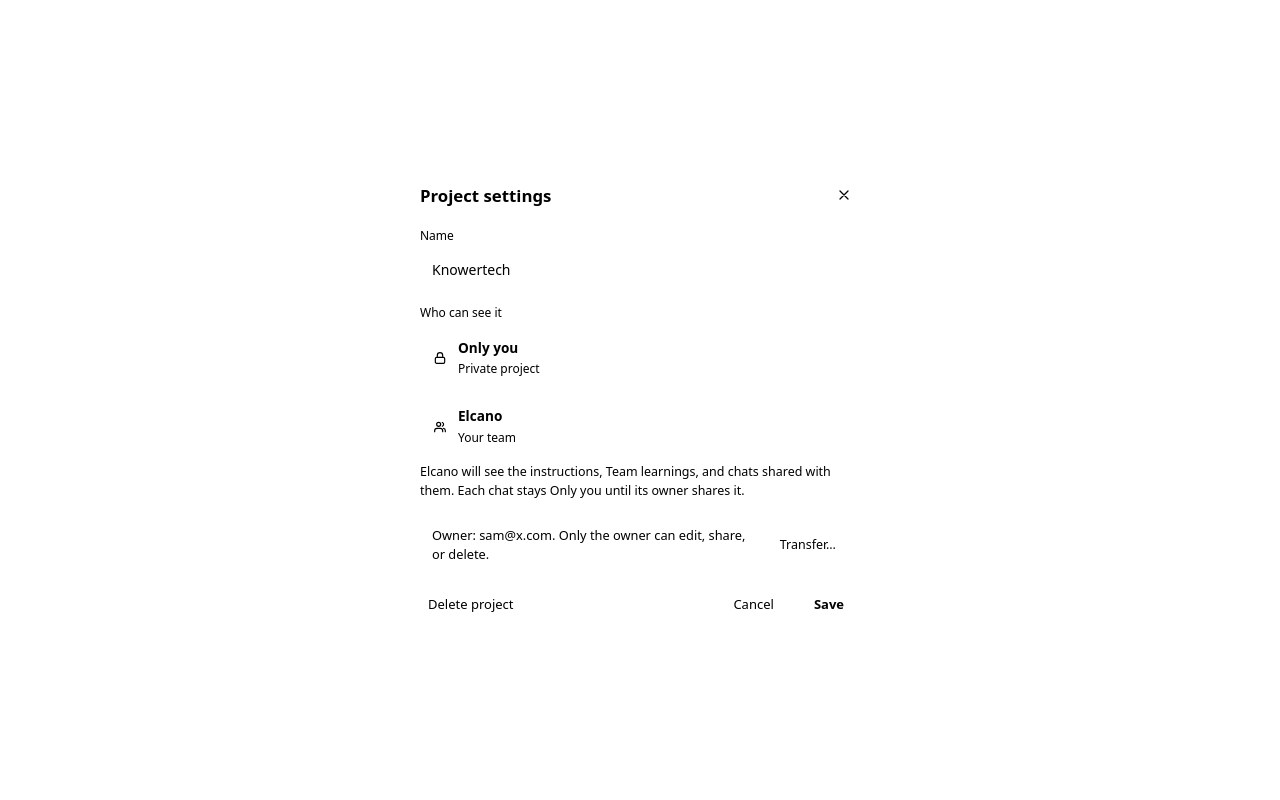
Test: ProjectSettingsDialog › B28: Save waits for the counts before it can unshare
The width and height of the screenshot is (1280, 800).
Click the radio button labelled "Only you Private project".
click(488, 348)  # box [420,328,860,388]
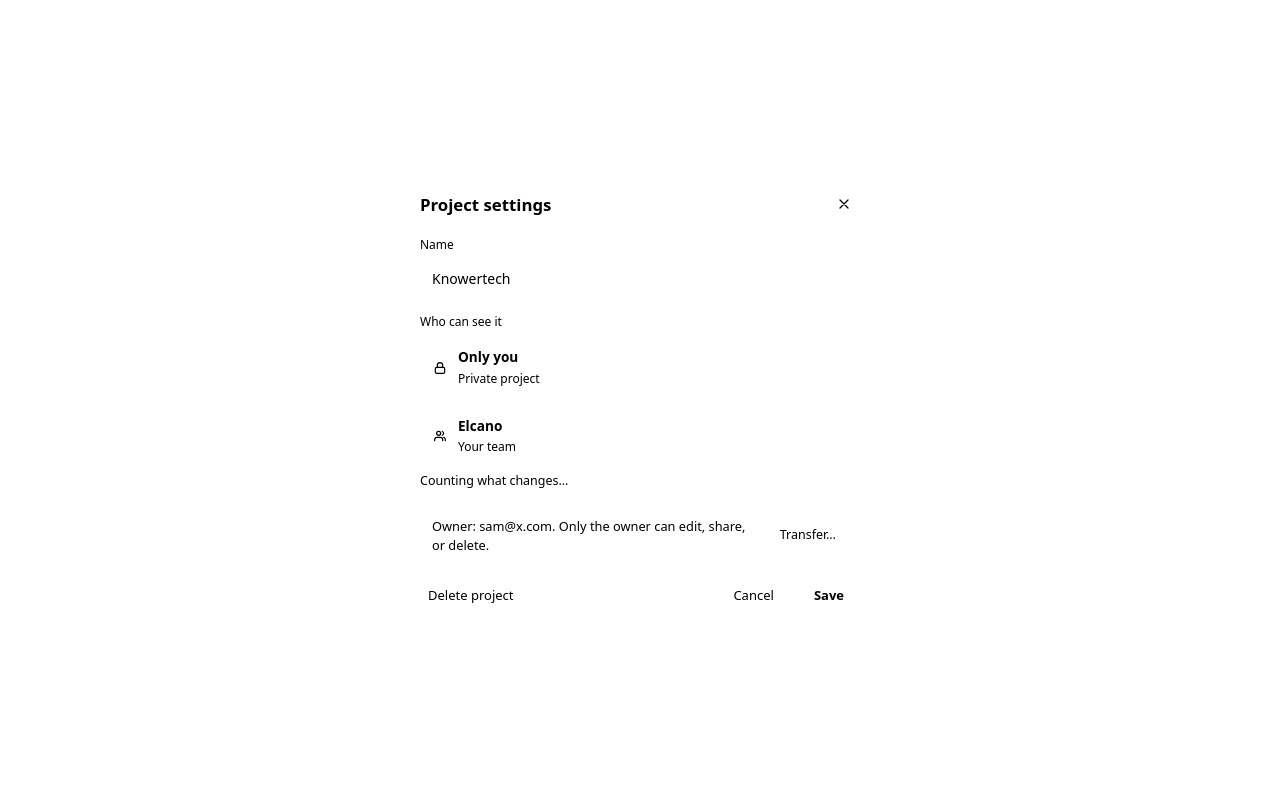
Now the button "Save" is disabled
Click the button "Save".
click(829, 596)  # box [798,580,860,612]
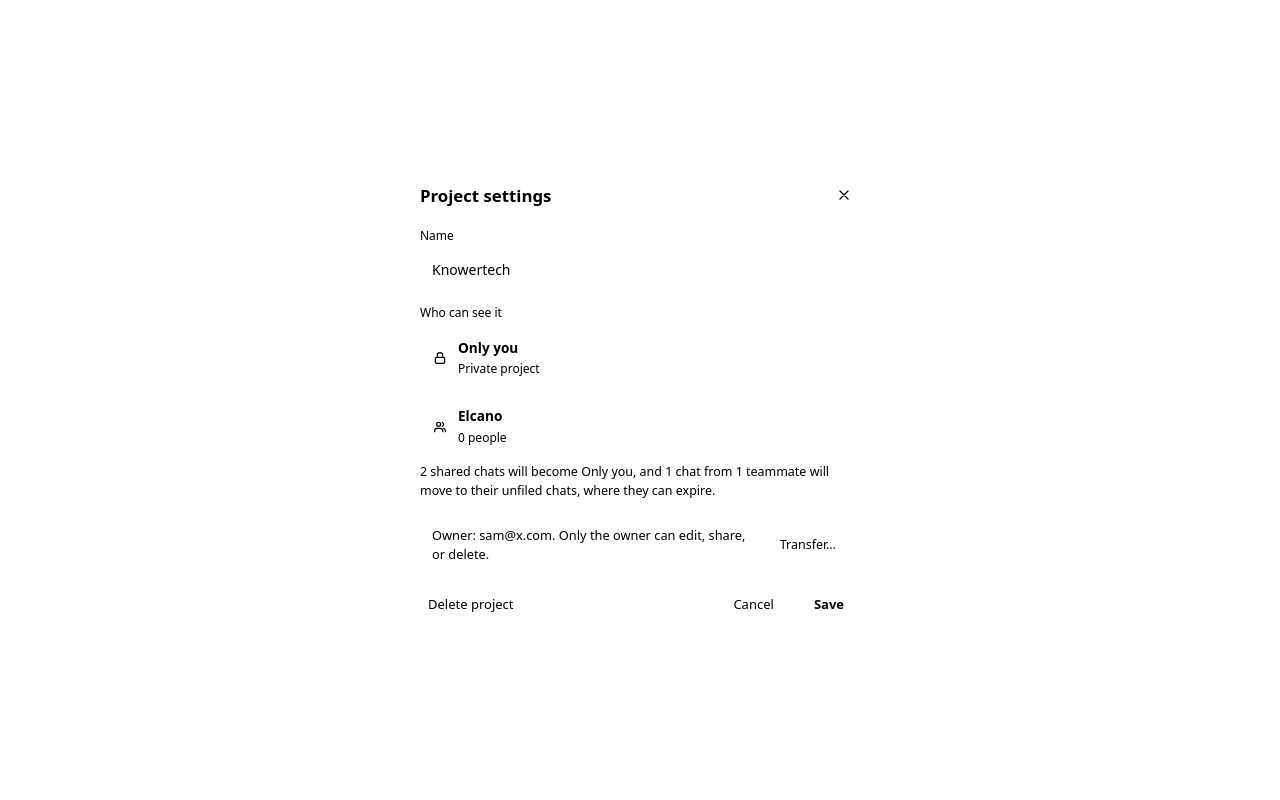
Now the button "Save" is enabled, box [798,589,860,621]
